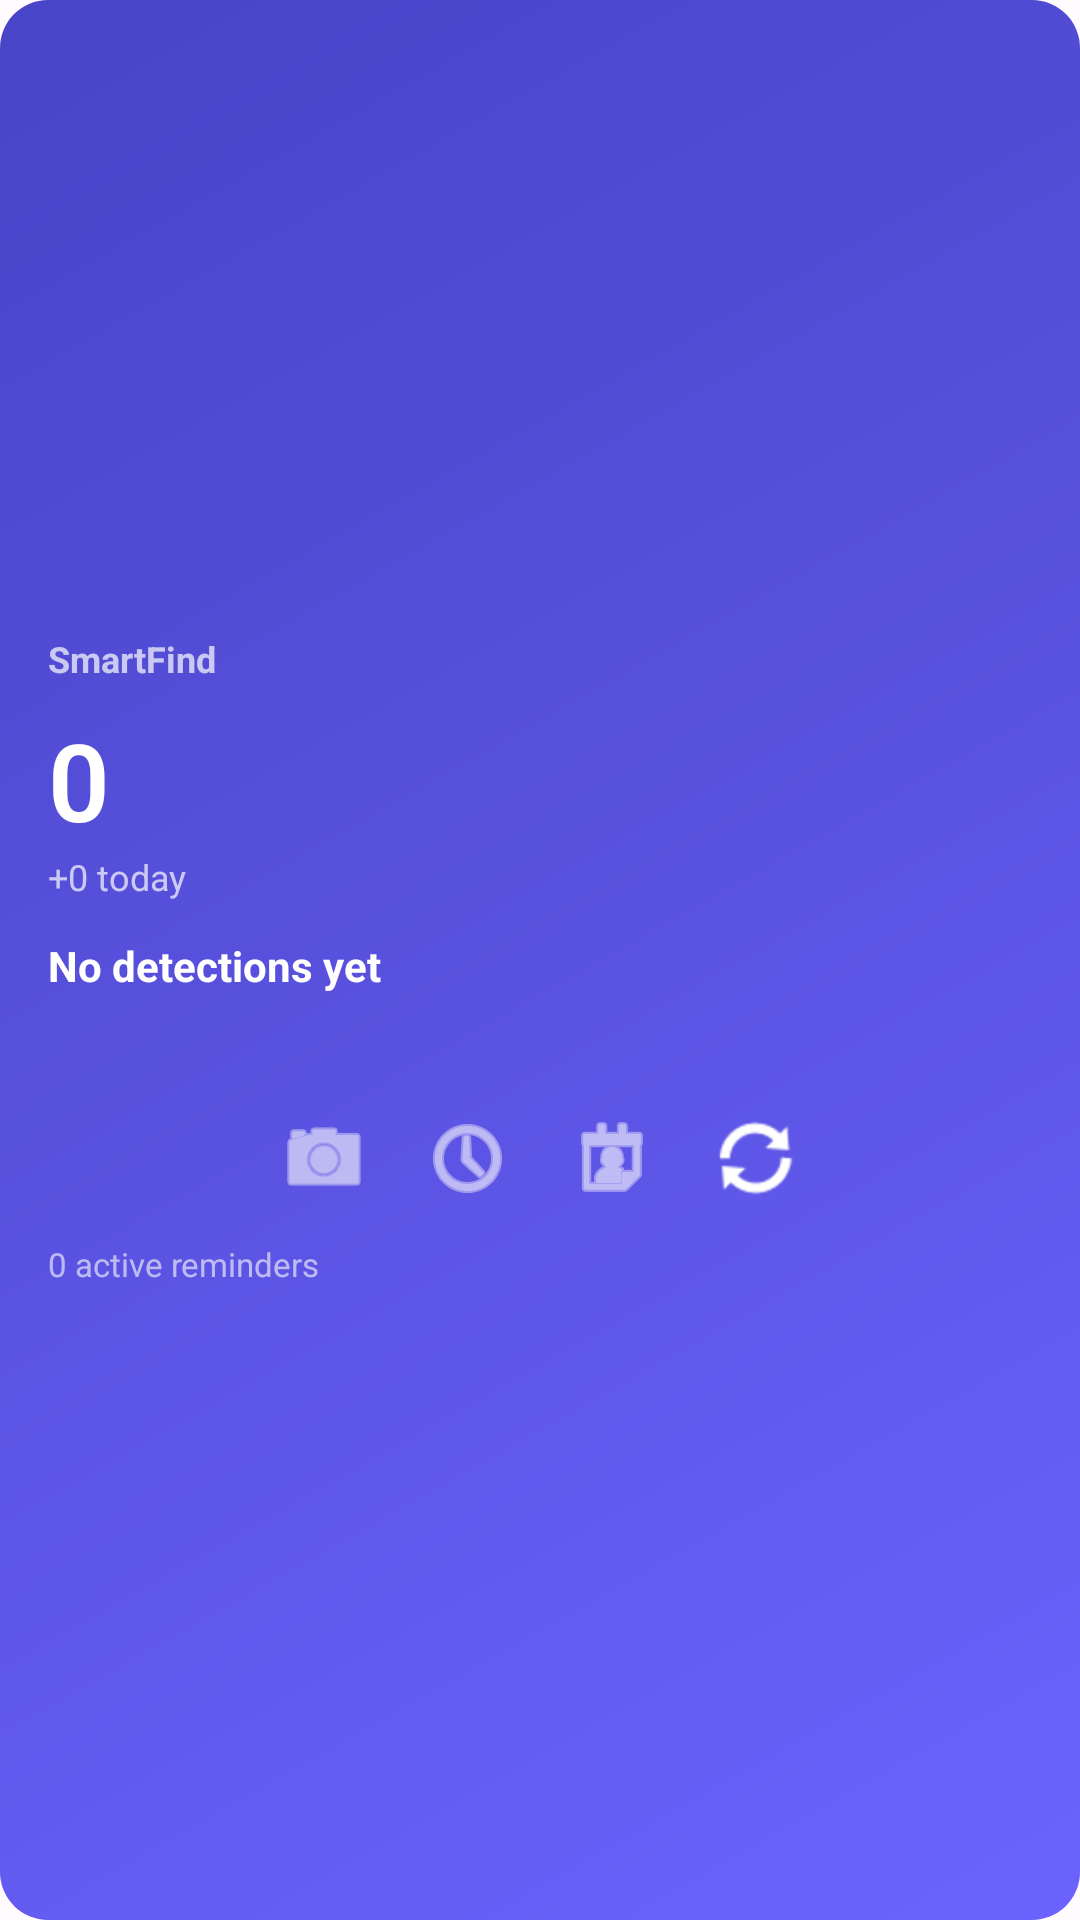

Icon click points for this 1080x1920 phone screenshot, format (x=x, y=y):
Open Camera: (x=324, y=1156)
Refresh: (x=755, y=1158)
View History: (x=467, y=1158)
